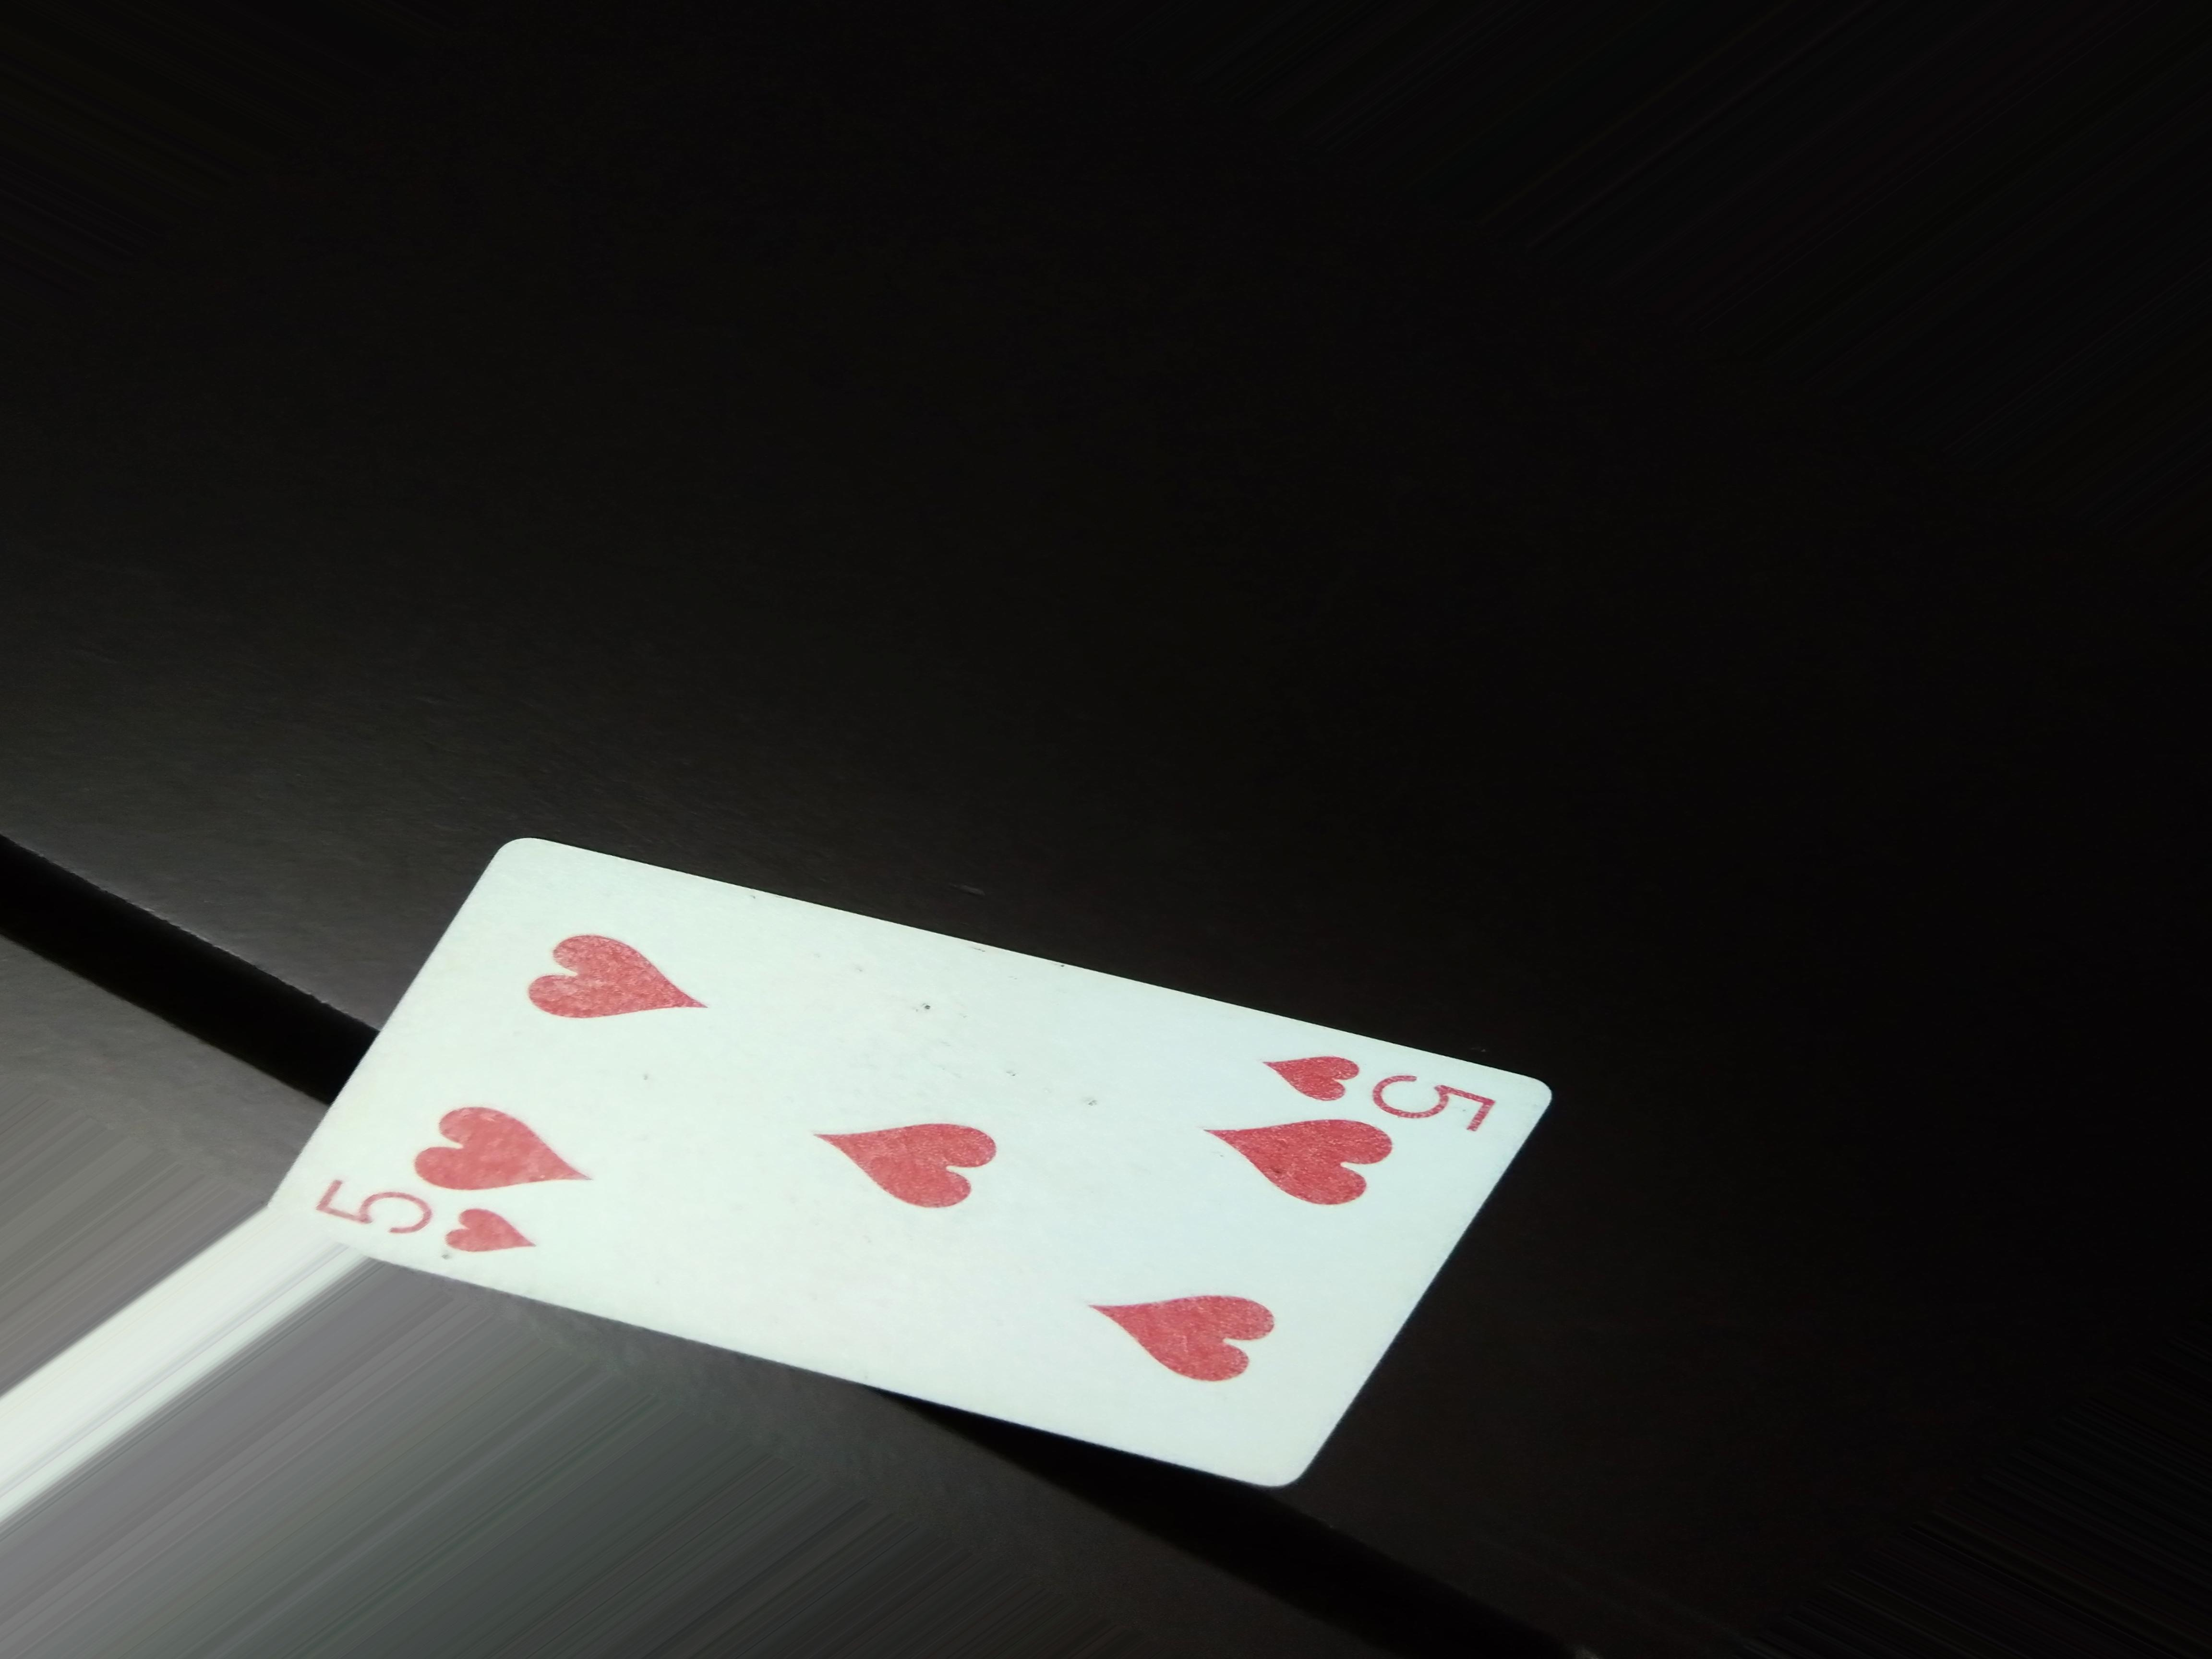5H: (301, 1168, 552, 1270)
